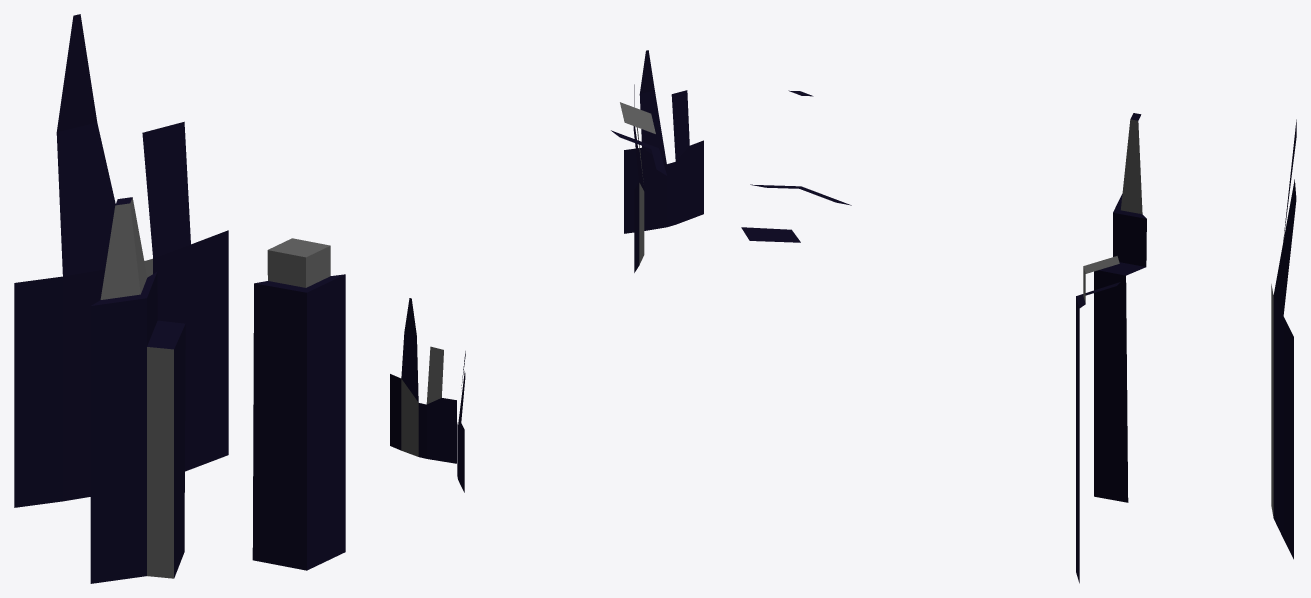
The model's file is buildings-bg.glb.
The picture shows the model from 3 angles, left to right: view 1: azimuth 30°, elevation 25°; view 2: azimuth 150°, elevation 25°; view 3: azimuth 270°, elevation 25°; orthographic projection. The views are drawn at different scales.
Visible parts, largest first — view 1: background_buildings; view 2: background_buildings; view 3: background_buildings.
Boxes of the visible parts, x1,y1,x2,y2 form: background_buildings: (14, 14, 465, 583); background_buildings: (611, 50, 851, 272); background_buildings: (1076, 113, 1296, 583).
Size of the model in its own units: 26.14 by 44.04 by 33.25.
